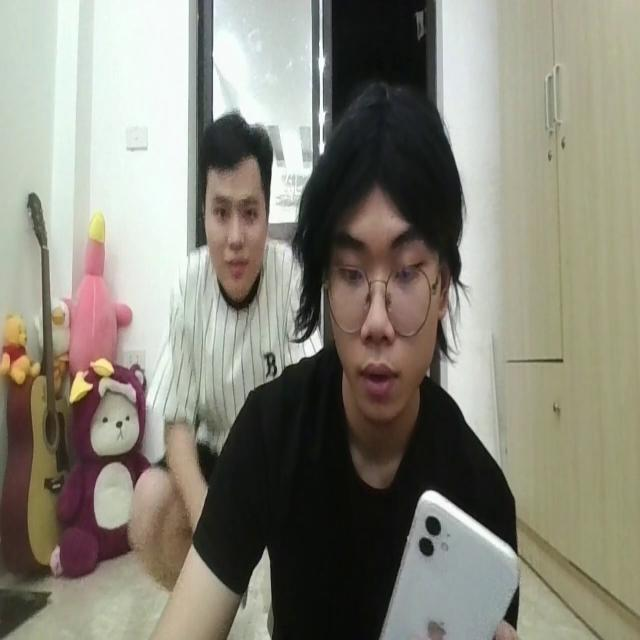extra_person: (162, 120, 324, 408)
phone: (383, 477, 521, 640)
student: (164, 77, 522, 640)
